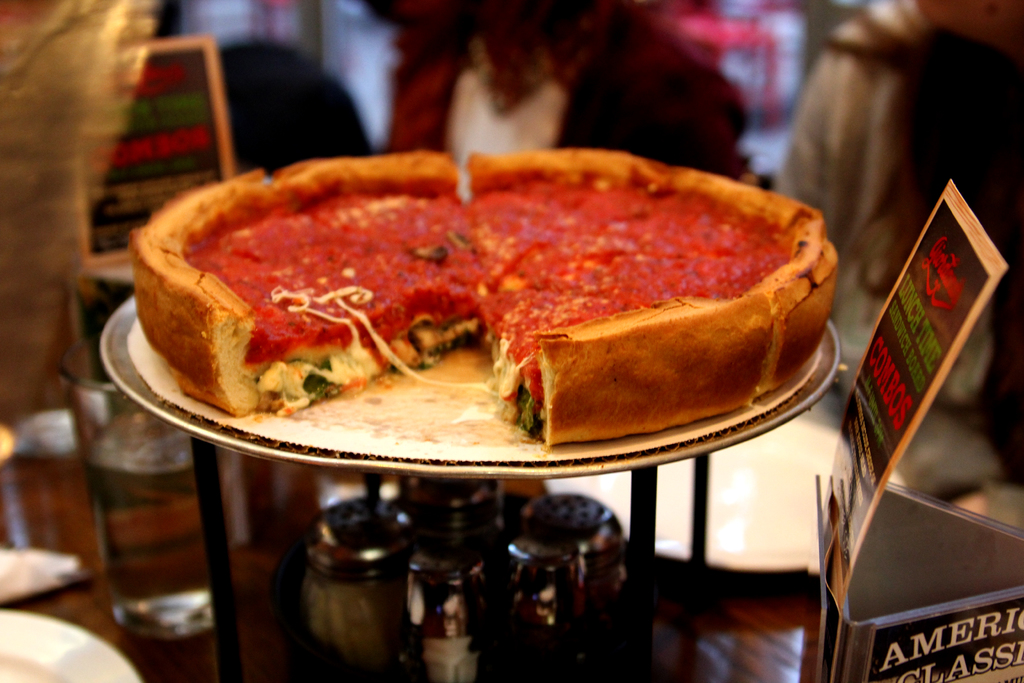Pizza: (99, 148, 848, 502)
